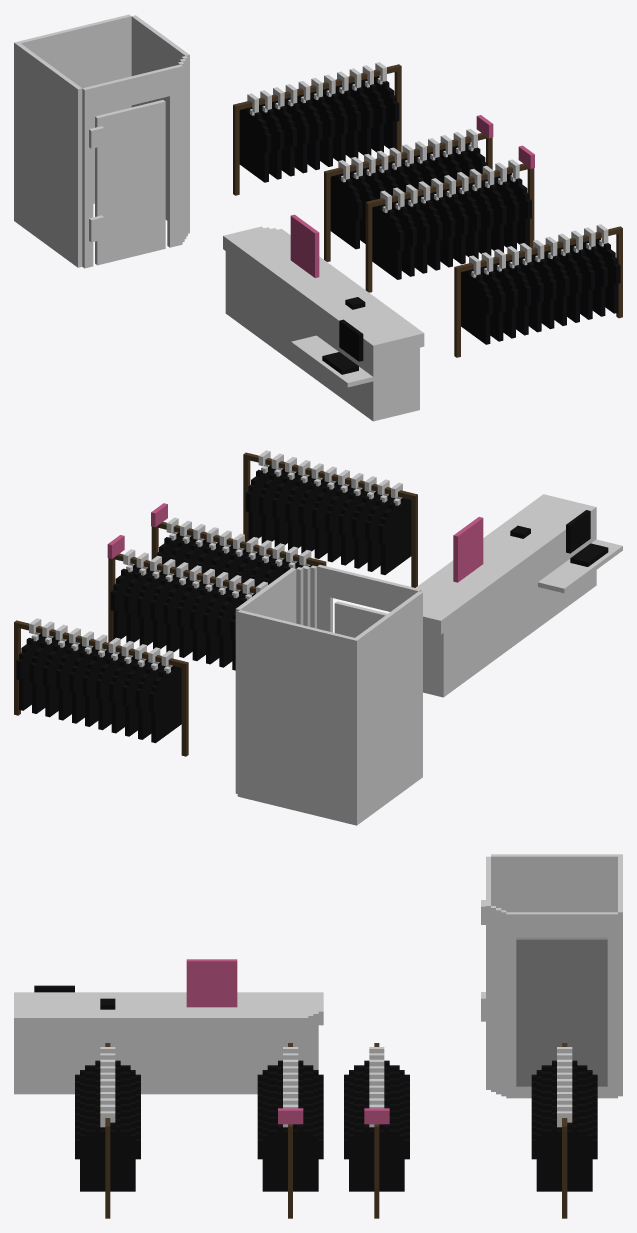
File: shop-1.obj
The picture shows the model from 3 angles, top to bottom: view 1: azimuth 30°, elevation 25°; view 2: azimuth 150°, elevation 25°; view 3: azimuth 270°, elevation 25°; orthographic projection. The views are drawn at different scales.
Size of the model in its own units: 8.4 by 4 by 12.
1 material, 1 textured.
